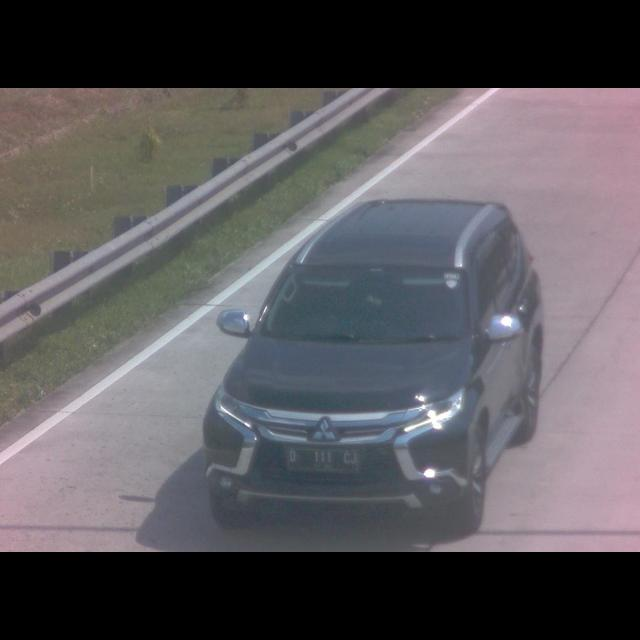plate: (285, 448, 363, 475)
